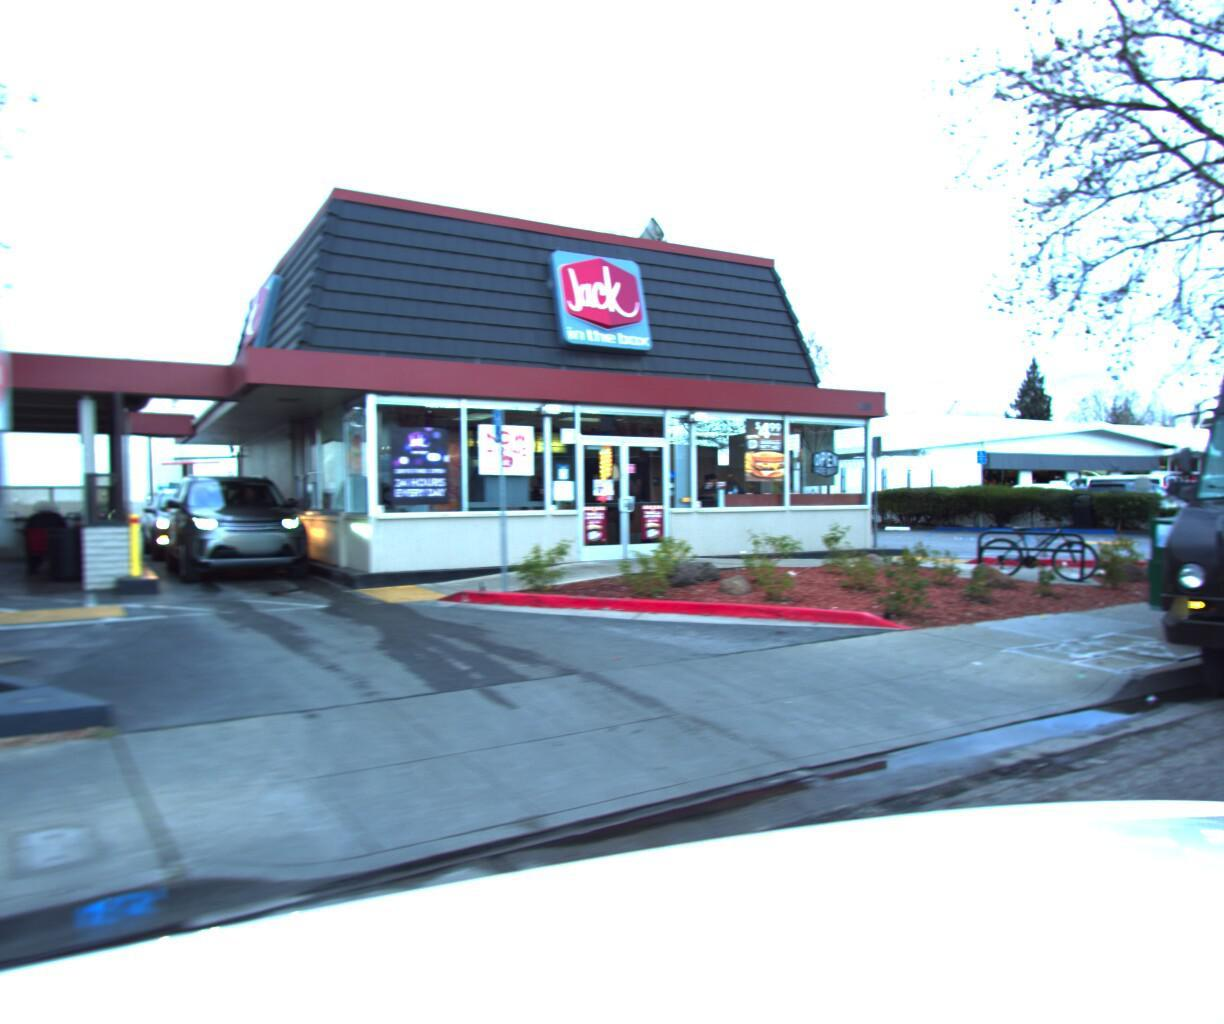bicycle: (965, 511, 1108, 588)
car: (165, 477, 311, 592), (1048, 468, 1196, 515), (1074, 475, 1196, 528), (144, 476, 224, 549), (977, 454, 1073, 485)
truck: (1069, 229, 1224, 780)
